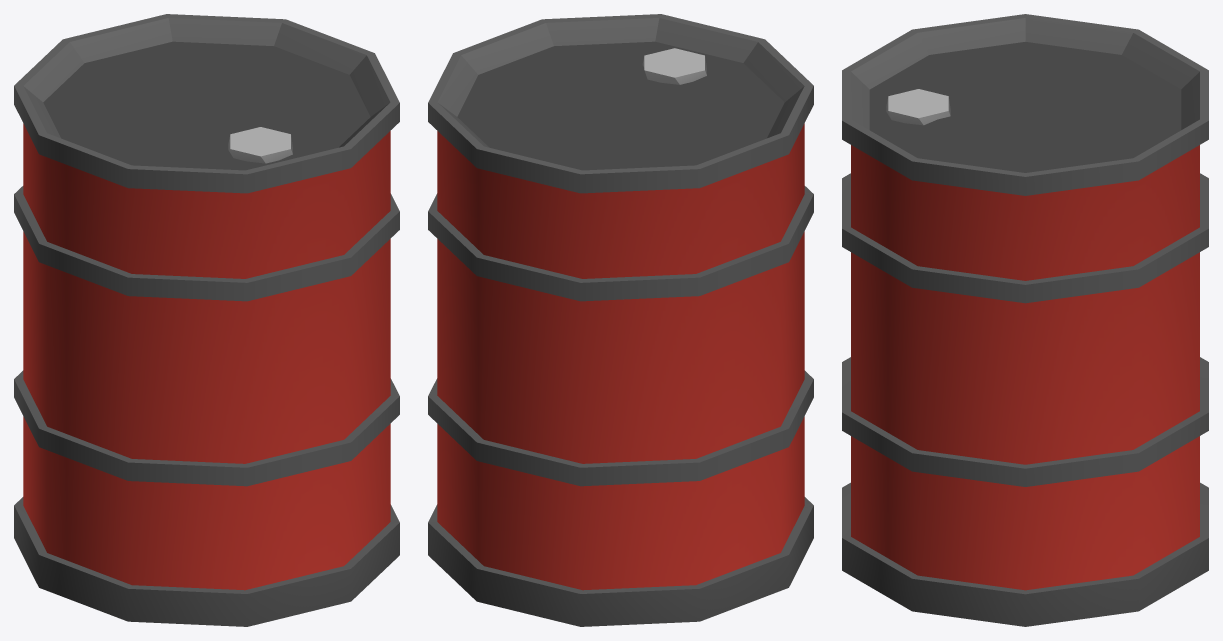
File: barrel_009.glb
3 renders of one model, left to right at view 1: azimuth 30°, elevation 25°; view 2: azimuth 150°, elevation 25°; view 3: azimuth 270°, elevation 25°, orthographic.
Parts seen in each view (by area): view 1: barrel_009; view 2: barrel_009; view 3: barrel_009.
Boxes of the visible parts, x1,y1,x2,y2 form: barrel_009: [14, 14, 399, 626]; barrel_009: [428, 14, 813, 626]; barrel_009: [842, 14, 1208, 626].
Bounding box in the file's own units: 0.8232 × 1.06 × 0.783.
Materials: 1 (1 with a texture image).
